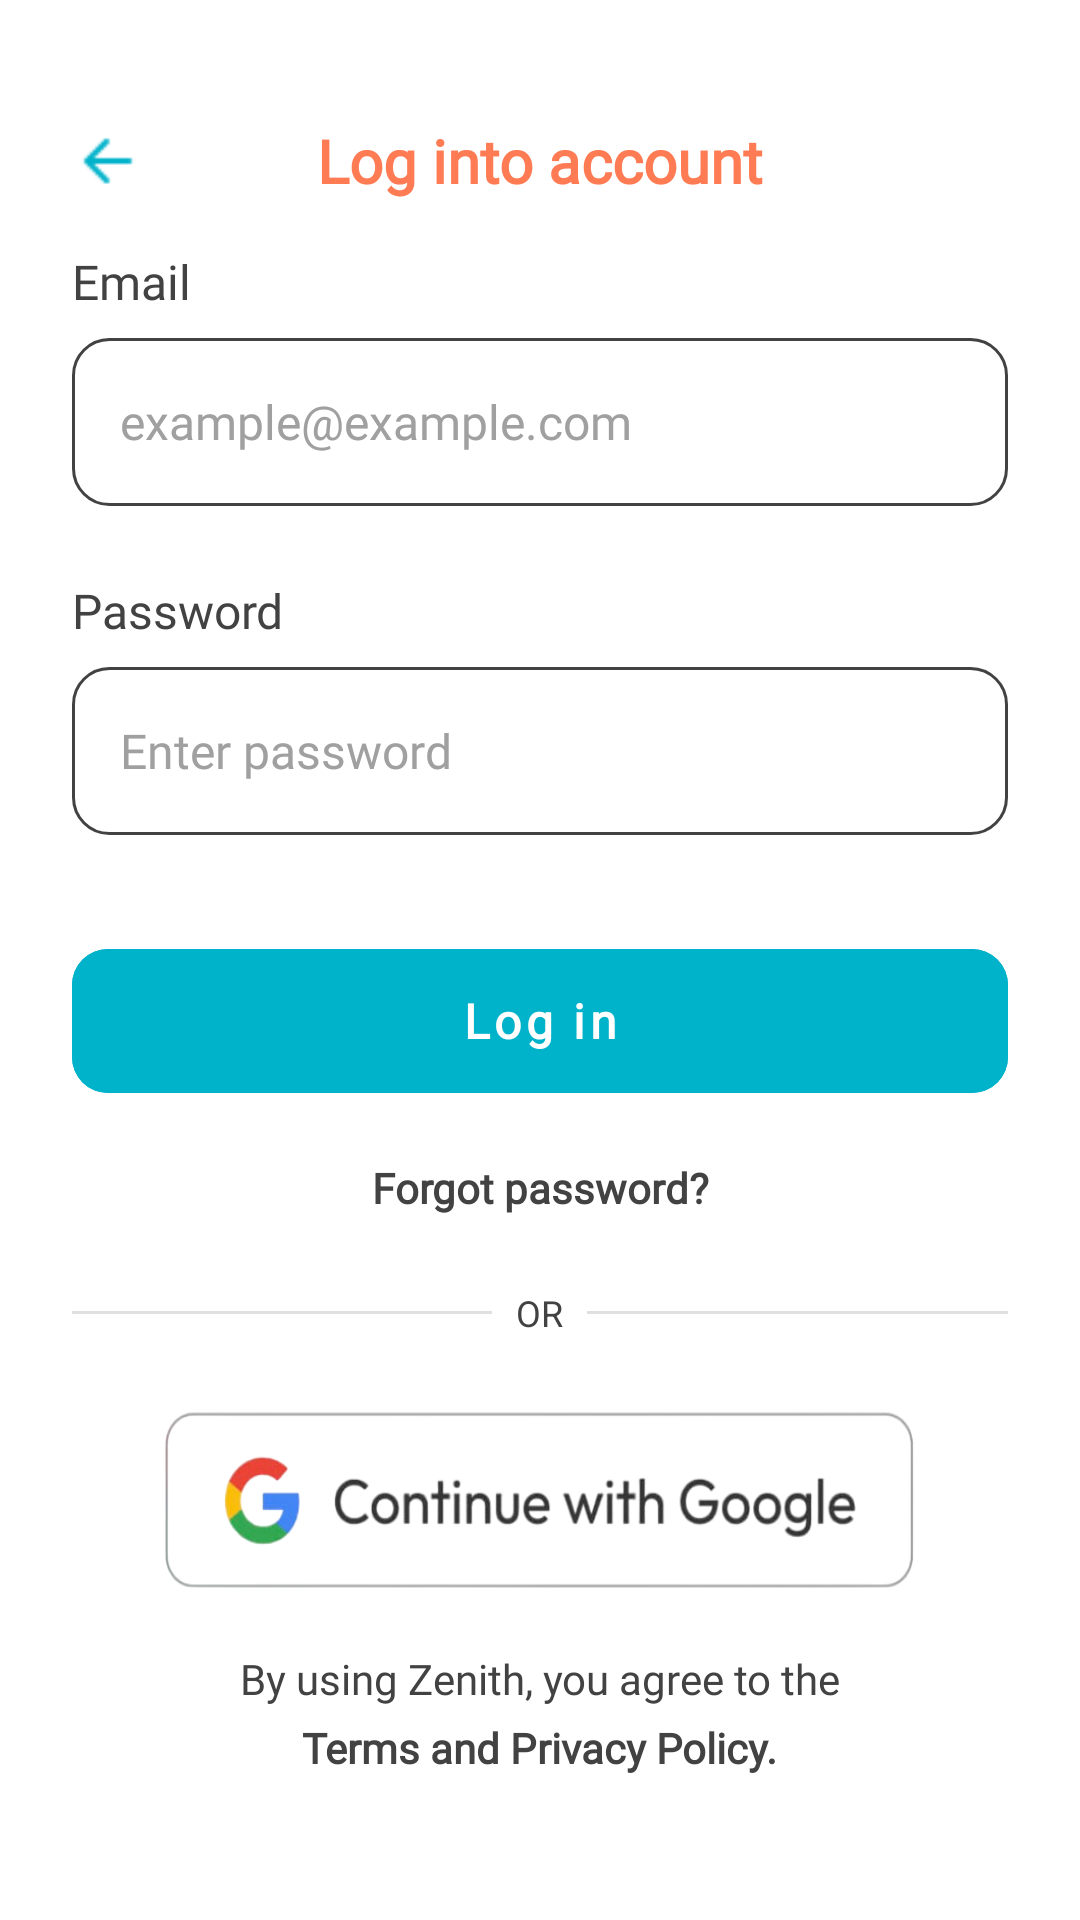

Point at icon controls on the screen. Image size 1080×1920, points as (x=x, y=y).
Back: (x=108, y=161)
